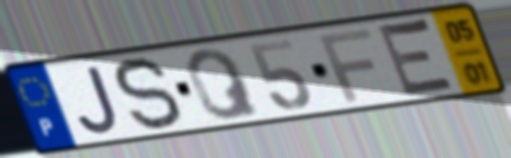5: (245, 36, 314, 113)
E: (374, 15, 462, 100)
F: (315, 26, 377, 104)
J: (75, 63, 122, 137)
Q: (183, 45, 265, 123)
S: (111, 54, 185, 135)
